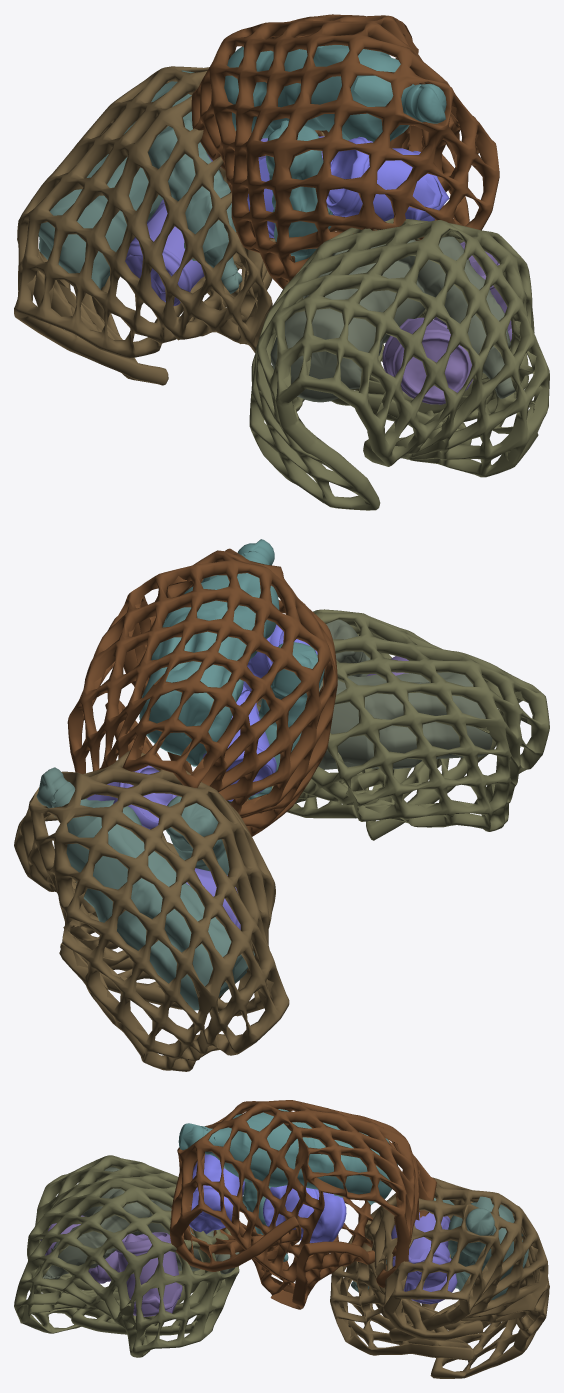
Rendered from map2_Trash.fbx.
3 renders of one model, top to bottom at view 1: azimuth 30°, elevation 25°; view 2: azimuth 150°, elevation 25°; view 3: azimuth 270°, elevation 25°, orthographic. The views are drawn at different scales.
Parts seen in each view (by area): view 1: pasted__pasted__pasted__pasted__pCylinder3, pasted__pasted__pasted__pasted__pasted__pCylinder3, pasted__pasted__pasted__pCylinder3; view 2: pasted__pasted__pasted__pCylinder3, pasted__pasted__pasted__pasted__pasted__pCylinder3, pasted__pasted__pasted__pasted__pCylinder3; view 3: pasted__pasted__pasted__pasted__pasted__pCylinder3, pasted__pasted__pasted__pCylinder3, pasted__pasted__pasted__pasted__pCylinder3.
Part boxes in pixels (x1,y1,x2,y2): pasted__pasted__pasted__pasted__pCylinder3: [249, 218, 549, 510]; pasted__pasted__pasted__pasted__pasted__pCylinder3: [191, 14, 499, 288]; pasted__pasted__pasted__pCylinder3: [14, 66, 344, 385]; pasted__pasted__pasted__pCylinder3: [14, 750, 289, 1071]; pasted__pasted__pasted__pasted__pasted__pCylinder3: [67, 539, 337, 836]; pasted__pasted__pasted__pasted__pCylinder3: [227, 609, 549, 840]; pasted__pasted__pasted__pasted__pasted__pCylinder3: [170, 1100, 436, 1309]; pasted__pasted__pasted__pCylinder3: [330, 1177, 549, 1378]; pasted__pasted__pasted__pasted__pCylinder3: [14, 1155, 239, 1357].
Size of the model in its own units: 15.86 by 20.34 by 32.06.
